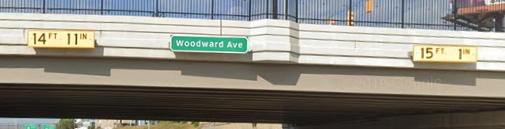1: (71, 29, 79, 49), (63, 30, 72, 47), (455, 46, 464, 61), (29, 30, 37, 46), (417, 45, 425, 60)
4: (36, 31, 48, 46)
5: (423, 44, 435, 62)
overheadsign: (25, 27, 96, 51), (411, 41, 476, 65)
